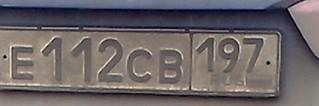license-plateSW: (0, 26, 282, 98)
